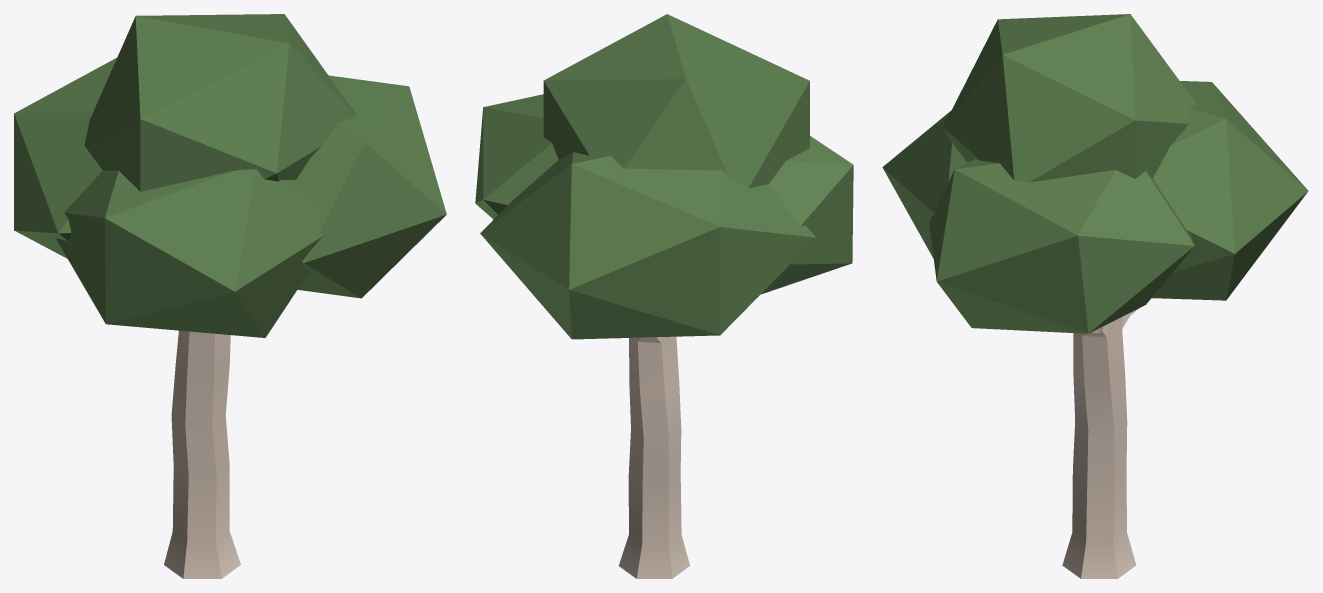
File: rubbertree.fbx
3 renders of one model, left to right at view 1: azimuth 30°, elevation 25°; view 2: azimuth 150°, elevation 25°; view 3: azimuth 270°, elevation 25°, orthographic. The views are drawn at different scales.
Parts seen in each view (by area): view 1: group3; view 2: group3; view 3: group3.
Boxes of the visible parts, box(x1,y1,x2,y2) form: group3: box(14, 14, 446, 578); group3: box(475, 14, 853, 578); group3: box(882, 14, 1308, 578).
Bounding box in the file's own units: 5.14 × 7.53 × 5.51.
